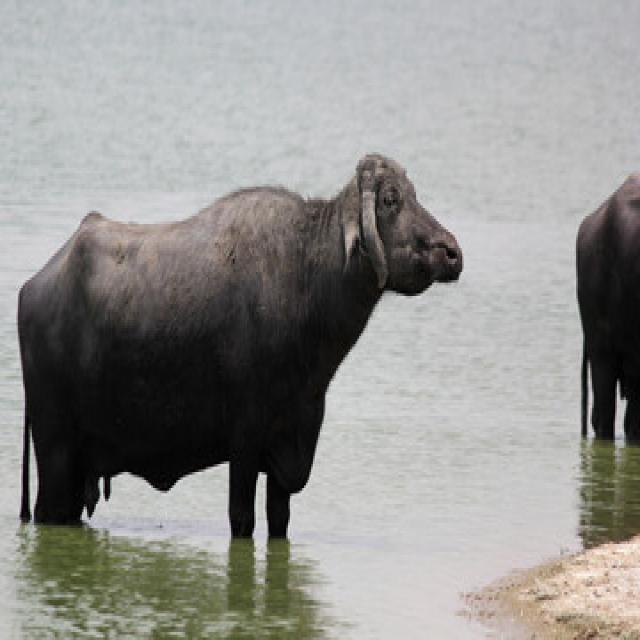Buffalo: (16, 151, 468, 543)
